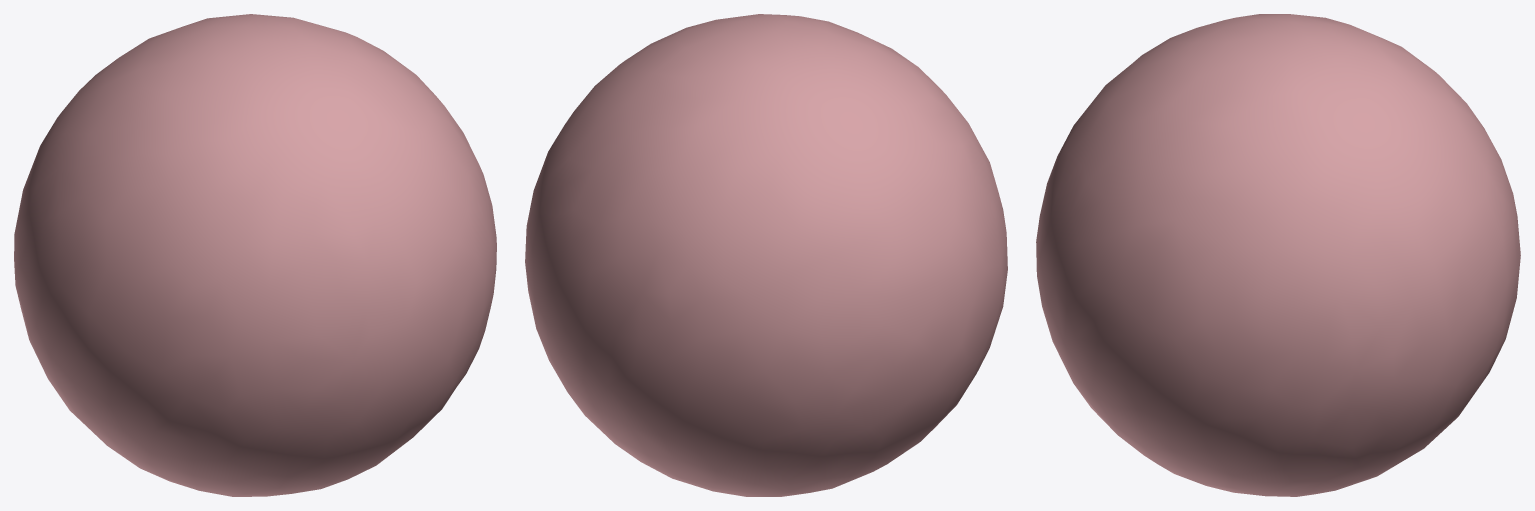
File: fma54811_mm841.glb
The picture shows the model from 3 angles, left to right: view 1: azimuth 30°, elevation 25°; view 2: azimuth 150°, elevation 25°; view 3: azimuth 270°, elevation 25°; orthographic projection.
Visible parts, largest first — view 1: FMA54811_MM841; view 2: FMA54811_MM841; view 3: FMA54811_MM841.
Boxes of the visible parts, x1=… form: FMA54811_MM841: x1=14, y1=14, x2=496, y2=496; FMA54811_MM841: x1=525, y1=14, x2=1007, y2=496; FMA54811_MM841: x1=1036, y1=14, x2=1520, y2=496.
Bounding box in the file's own units: 0.00862 × 0.0086 × 0.00863.
